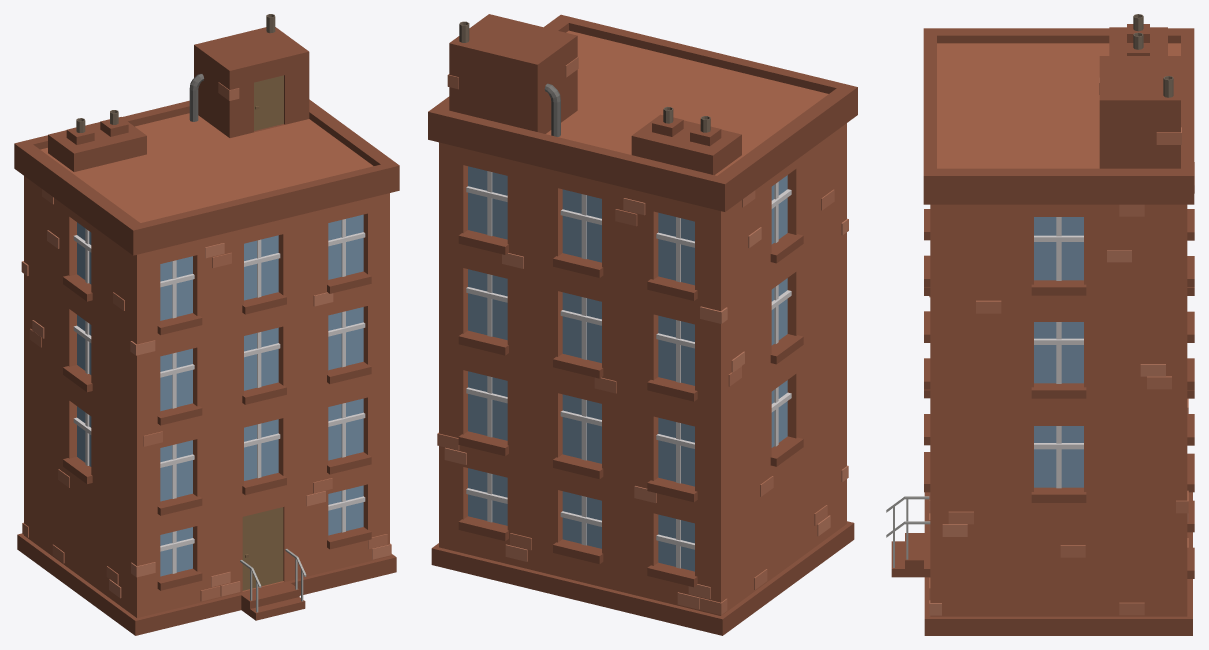
File: House_01.fbx
3 views of the same model, side by side, from view 1: azimuth 30°, elevation 25°; view 2: azimuth 150°, elevation 25°; view 3: azimuth 270°, elevation 25° (orthographic). The views are drawn at different scales.
Visible parts, largest first — view 1: House_01; view 2: House_01; view 3: House_01.
Boxes of the visible parts, <box> form: House_01: <box>14,14,399,635</box>; House_01: <box>428,14,857,635</box>; House_01: <box>886,14,1194,635</box>.
Bounding box in the file's own units: 714 × 1235 × 630.
1 material, 1 textured.
